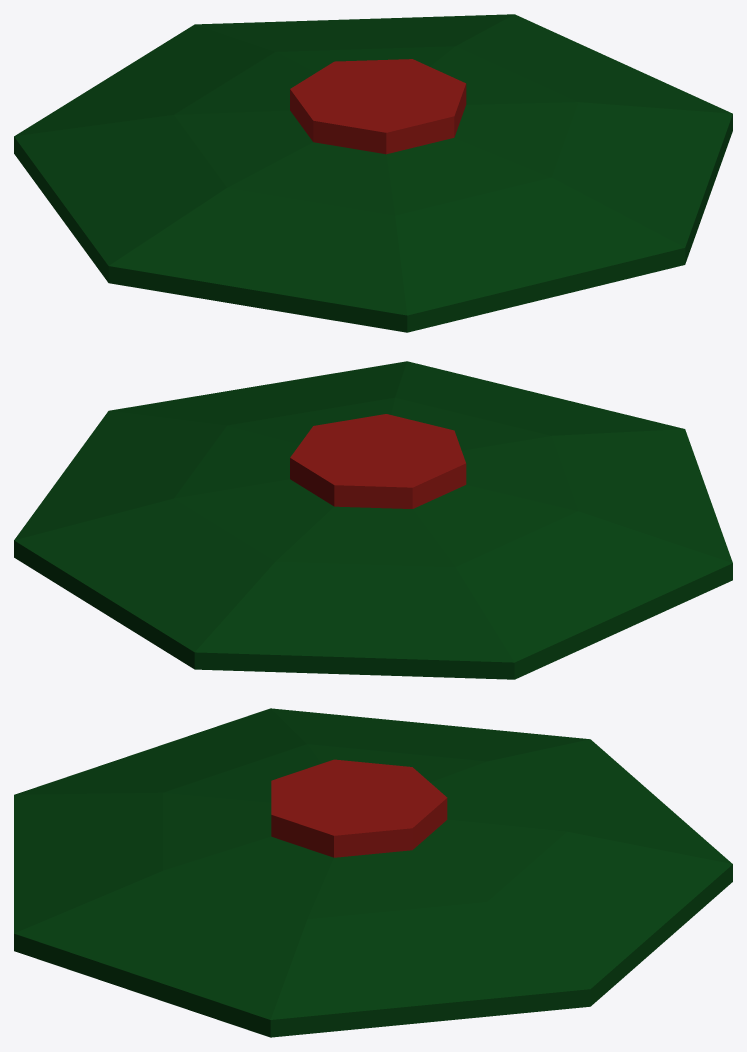
The model's file is mine.fbx.
3 views of the same model, one above another, from view 1: azimuth 30°, elevation 25°; view 2: azimuth 150°, elevation 25°; view 3: azimuth 270°, elevation 25° (orthographic). The views are drawn at different scales.
Visible parts, largest first — view 1: Cylinder; view 2: Cylinder; view 3: Cylinder.
Boxes of the visible parts, left/top/right/bottom form: Cylinder: left=14, top=14, right=732, bottom=332; Cylinder: left=14, top=361, right=732, bottom=679; Cylinder: left=14, top=708, right=732, bottom=1037.
Size of the model in its own units: 195 by 24.53 by 190.
